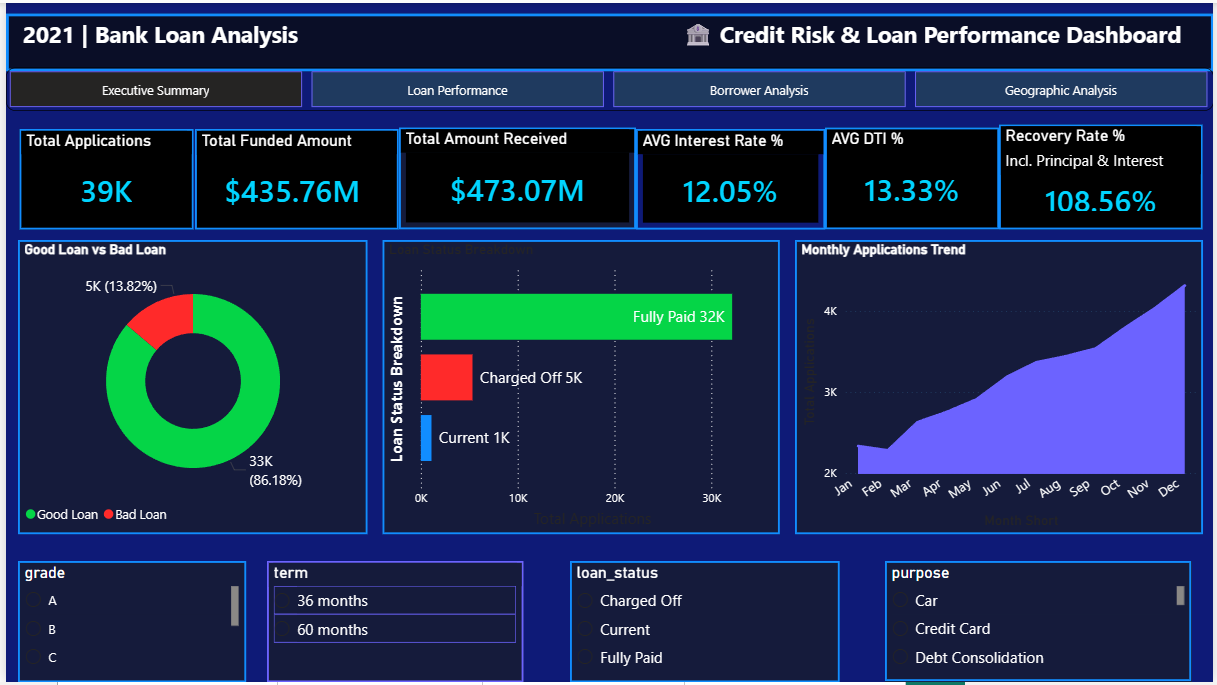

What the dashboard file says about the page in this screenshot:
{"tool":"powerbi","page":{"name":"Executive Summary","canvas":[1280,720],"ordinal":0},"visuals":[{"type":"shape","box":[0,10.5,1280.7,61.4],"z":0},{"type":"textbox","box":[12.7,11.1,1256.6,57.3],"z":7000},{"type":"cardVisual","title":"Total Applications","fields":{"Data":["financial_loan.Total Applications"]},"box":[14.3,133.6,184.5,106.6],"z":8000},{"type":"cardVisual","title":"AVG Interest Rate %","fields":{"Data":["financial_loan.Avg Interest Rate"]},"box":[668.1,133.6,200.4,106.6],"z":9000},{"type":"cardVisual","title":"AVG DTI %","fields":{"Data":["financial_loan.Avg DTI"]},"box":[868.5,132,184.5,108.2],"z":10000},{"type":"cardVisual","title":"Recovery Rate %","fields":{"Data":["financial_loan.Recovery Rate"]},"box":[1053,128.8,216.3,111.3],"z":11000},{"type":"cardVisual","title":"Total Funded Amount","fields":{"Data":["financial_loan.Total Funded Amount $"]},"box":[200.4,133.6,216.3,106.6],"z":12000},{"type":"cardVisual","title":"Total Amount Received","fields":{"Data":["financial_loan.Total Amount Received"]},"box":[416.7,132,251.3,108.2],"z":13000},{"type":"donutChart","title":"Good Loan vs Bad Loan","fields":{"Category":["financial_loan.good_bad_loan"],"Y":["financial_loan.Total Applications"]},"box":[12.7,251.3,370.6,311.8],"z":14000},{"type":"clusteredBarChart","title":"Loan Status Breakdown","fields":{"Category":["financial_loan.loan_status"],"Y":["financial_loan.Total Applications"]},"box":[399.2,251.3,421.5,311.8],"z":15000},{"type":"stackedAreaChart","title":"Monthly Applications Trend","fields":{"Y":["financial_loan.Total Applications"],"Category":["financial_loan.Month Short"]},"box":[836.7,251.3,432.6,311.8],"z":16000},{"type":"listSlicer","fields":{"Values":["financial_loan.grade"]},"box":[12.7,591.7,241.8,128.8],"z":17000},{"type":"listSlicer","fields":{"Values":["financial_loan.term"]},"box":[276.8,591.7,272,128.8],"z":18000},{"type":"listSlicer","fields":{"Values":["financial_loan.loan_status"]},"box":[598.1,591.7,286.3,128.8],"z":19000},{"type":"listSlicer","fields":{"Values":["financial_loan.purpose"]},"box":[932.1,591.7,324.5,127.2],"z":20000},{"type":"pageNavigator","box":[0,68.4,1280.4,46.1],"z":21000}]}

Visuals, with their boxes in screenshot pixels (x1, y1, x2, y2), scaled from the page's 1280x720 canvas onto the 1217x685 screenshot:
shape: left=0, top=10, right=1216, bottom=68
textbox: left=12, top=11, right=1207, bottom=65
"Total Applications" cardVisual: left=14, top=127, right=189, bottom=229
"AVG Interest Rate %" cardVisual: left=635, top=127, right=826, bottom=229
"AVG DTI %" cardVisual: left=826, top=126, right=1001, bottom=229
"Recovery Rate %" cardVisual: left=1001, top=123, right=1207, bottom=228
"Total Funded Amount" cardVisual: left=191, top=127, right=396, bottom=229
"Total Amount Received" cardVisual: left=396, top=126, right=635, bottom=229
"Good Loan vs Bad Loan" donutChart: left=12, top=239, right=364, bottom=536
"Loan Status Breakdown" clusteredBarChart: left=380, top=239, right=780, bottom=536
"Monthly Applications Trend" stackedAreaChart: left=796, top=239, right=1207, bottom=536
listSlicer - financial_loan.grade: left=12, top=563, right=242, bottom=684
listSlicer - financial_loan.term: left=263, top=563, right=522, bottom=684
listSlicer - financial_loan.loan_status: left=569, top=563, right=841, bottom=684
listSlicer - financial_loan.purpose: left=886, top=563, right=1195, bottom=684
pageNavigator: left=0, top=65, right=1216, bottom=109
